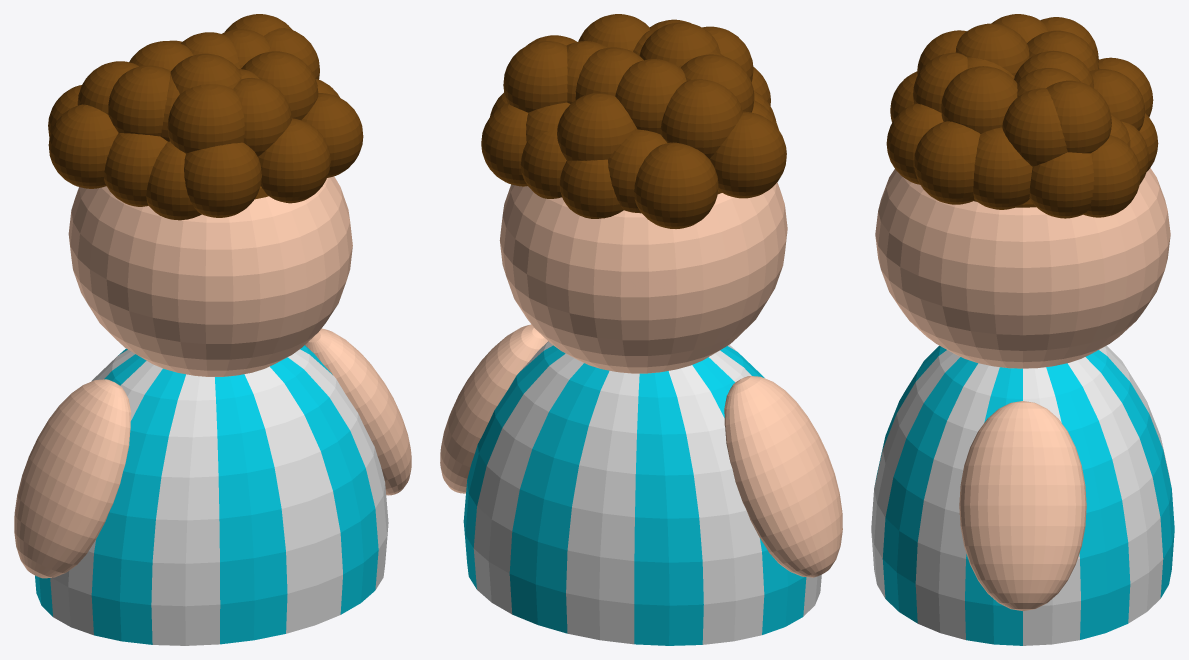
The model's file is Jugador 4.fbx.
3 views of the same model, side by side, from view 1: azimuth 30°, elevation 25°; view 2: azimuth 150°, elevation 25°; view 3: azimuth 270°, elevation 25° (orthographic). The views are drawn at different scales.
Visible parts, largest first — view 1: Sphere, Sphere.001, Sphere.004, Sphere.002, Sphere.003, Sphere.010, Sphere.006, Sphere.015, Sphere.028, Sphere.026, Sphere.007, Sphere.029 (+11 smaller); view 2: Sphere.004, Sphere, Sphere.001, Sphere.002, Sphere.003, Sphere.013, Sphere.015, Sphere.016, Sphere.031, Sphere.035, Sphere.017, Sphere.033 (+10 smaller); view 3: Sphere, Sphere.001, Sphere.004, Sphere.003, Sphere.022, Sphere.023, Sphere.009, Sphere.021, Sphere.020, Sphere.035, Sphere.034, Sphere.024 (+13 smaller).
Boxes of the visible parts, x1=… form: Sphere: x1=68, y1=176, x2=352, y2=376; Sphere.001: x1=35, y1=345, x2=378, y2=644; Sphere.004: x1=50, y1=349, x2=388, y2=645; Sphere.002: x1=14, y1=379, x2=131, y2=578; Sphere.003: x1=305, y1=328, x2=411, y2=495; Sphere.010: x1=184, y1=142, x2=261, y2=217; Sphere.006: x1=258, y1=118, x2=330, y2=203; Sphere.015: x1=48, y1=104, x2=118, y2=188; Sphere.028: x1=167, y1=84, x2=244, y2=153; Sphere.026: x1=108, y1=65, x2=170, y2=136; Sphere.007: x1=104, y1=133, x2=167, y2=206; Sphere.029: x1=233, y1=78, x2=291, y2=156; Sphere.004: x1=473, y1=341, x2=821, y2=644; Sphere: x1=499, y1=182, x2=787, y2=373; Sphere.001: x1=463, y1=345, x2=806, y2=645; Sphere.002: x1=724, y1=376, x2=842, y2=577; Sphere.003: x1=440, y1=324, x2=547, y2=493; Sphere.013: x1=634, y1=142, x2=718, y2=228; Sphere.015: x1=709, y1=111, x2=786, y2=198; Sphere.016: x1=660, y1=79, x2=742, y2=158; Sphere.031: x1=557, y1=93, x2=637, y2=160; Sphere.035: x1=503, y1=41, x2=567, y2=112; Sphere.017: x1=615, y1=59, x2=686, y2=134; Sphere.033: x1=559, y1=159, x2=623, y2=218; Sphere: x1=875, y1=168, x2=1170, y2=368; Sphere.001: x1=875, y1=345, x2=1174, y2=645; Sphere.004: x1=871, y1=345, x2=1170, y2=645; Sphere.003: x1=959, y1=401, x2=1086, y2=610; Sphere.022: x1=914, y1=121, x2=980, y2=204; Sphere.023: x1=941, y1=66, x2=1017, y2=133; Sphere.009: x1=973, y1=127, x2=1032, y2=209; Sphere.021: x1=1029, y1=152, x2=1094, y2=218; Sphere.020: x1=1002, y1=88, x2=1067, y2=166; Sphere.035: x1=1046, y1=80, x2=1111, y2=153; Sphere.034: x1=1083, y1=135, x2=1140, y2=217; Sphere.024: x1=955, y1=23, x2=1029, y2=76.
Size of the model in its own units: 236 by 320 by 165.
